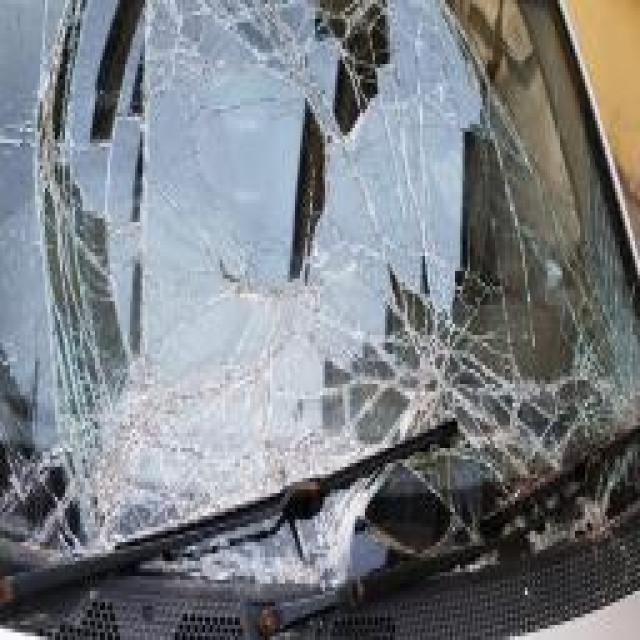Windshield: (0, 4, 640, 572)
